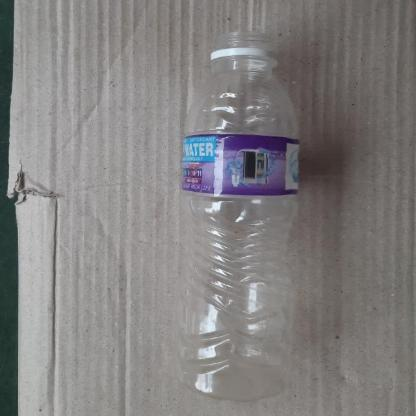Plastic Bottle: (178, 31, 302, 401)
